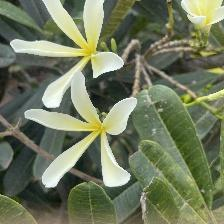champaka: (25, 69, 147, 193), (16, 1, 128, 101), (180, 1, 224, 40)
